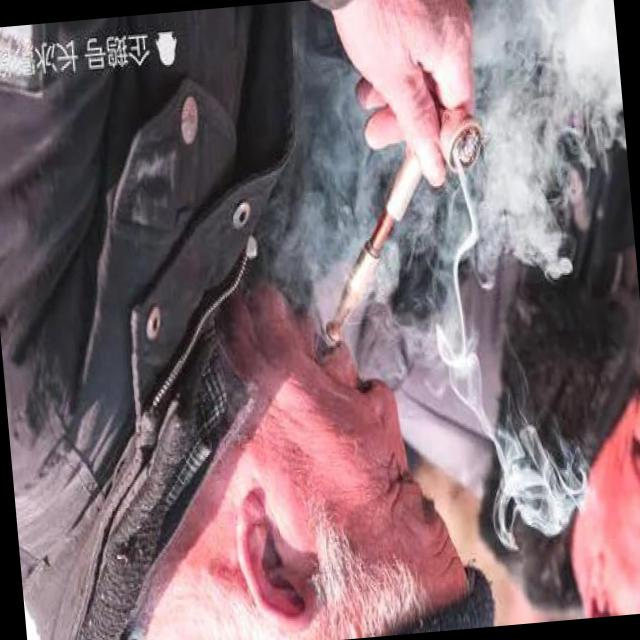cigarette: (288, 84, 511, 383)
